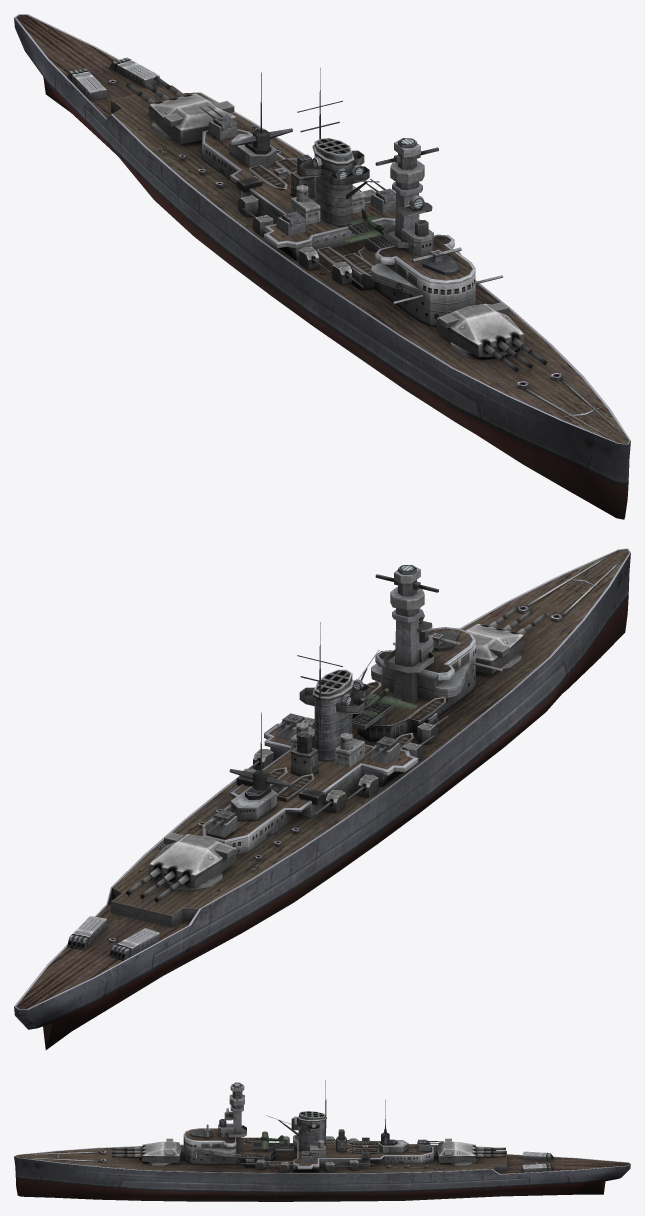
Rendered from Deutschland.fbx.
3 renders of one model, top to bottom at view 1: azimuth 30°, elevation 25°; view 2: azimuth 150°, elevation 25°; view 3: azimuth 270°, elevation 25°, orthographic. The views are drawn at different scales.
Visible parts, largest first — view 1: body, M_Cannon01, M_Cannon02; view 2: body, M_Cannon02, M_Cannon01; view 3: body, M_Cannon01, M_Cannon02, Cannon_f_barrel02, Cannon_f_barrel02_ncl1_1, AAGun02, AAGun01.
Part boxes in pixels (box(x1,y1,x2,y2)): body: box(14, 14, 630, 519); M_Cannon01: box(437, 302, 524, 357); M_Cannon02: box(148, 93, 236, 143); body: box(14, 548, 630, 1049); M_Cannon02: box(148, 832, 236, 887); M_Cannon01: box(464, 623, 524, 674); body: box(14, 1080, 630, 1201); M_Cannon01: box(141, 1138, 181, 1162); M_Cannon02: box(436, 1138, 476, 1162); Cannon_f_barrel02: box(112, 1147, 134, 1157); Cannon_f_barrel02_ncl1_1: box(484, 1147, 505, 1157); AAGun02: box(300, 1151, 325, 1162); AAGun01: box(417, 1139, 443, 1151).
Size of the model in its own units: 25.13 by 39.19 by 188.
1 material, 1 textured.
